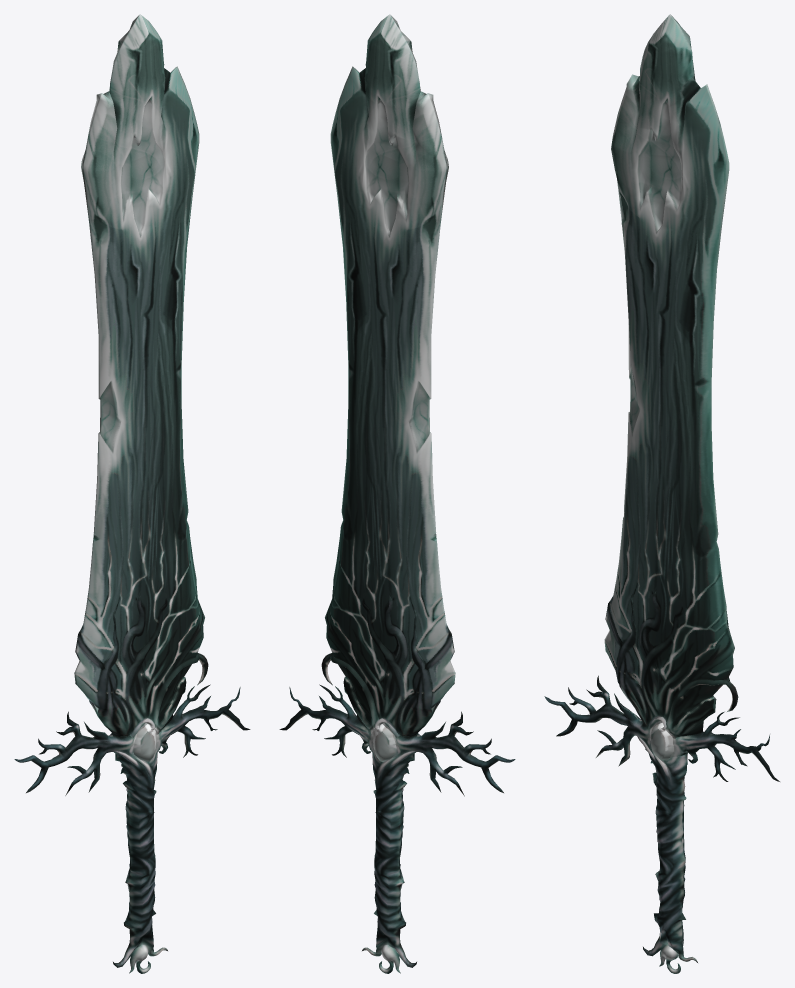
Rendered from sm_sword_131.gltf.
3 renders of one model, left to right at view 1: azimuth 30°, elevation 25°; view 2: azimuth 150°, elevation 25°; view 3: azimuth 330°, elevation 25°, orthographic.
Parts seen in each view (by area): view 1: SM_Sword_131; view 2: SM_Sword_131; view 3: SM_Sword_131.
Boxes of the visible parts, x1,y1,x2,y2 form: SM_Sword_131: [14, 14, 250, 973]; SM_Sword_131: [279, 14, 515, 973]; SM_Sword_131: [544, 14, 779, 973].
Bounding box in the file's own units: 0.3893 × 1.51 × 0.0601.
1 material, 1 textured.
